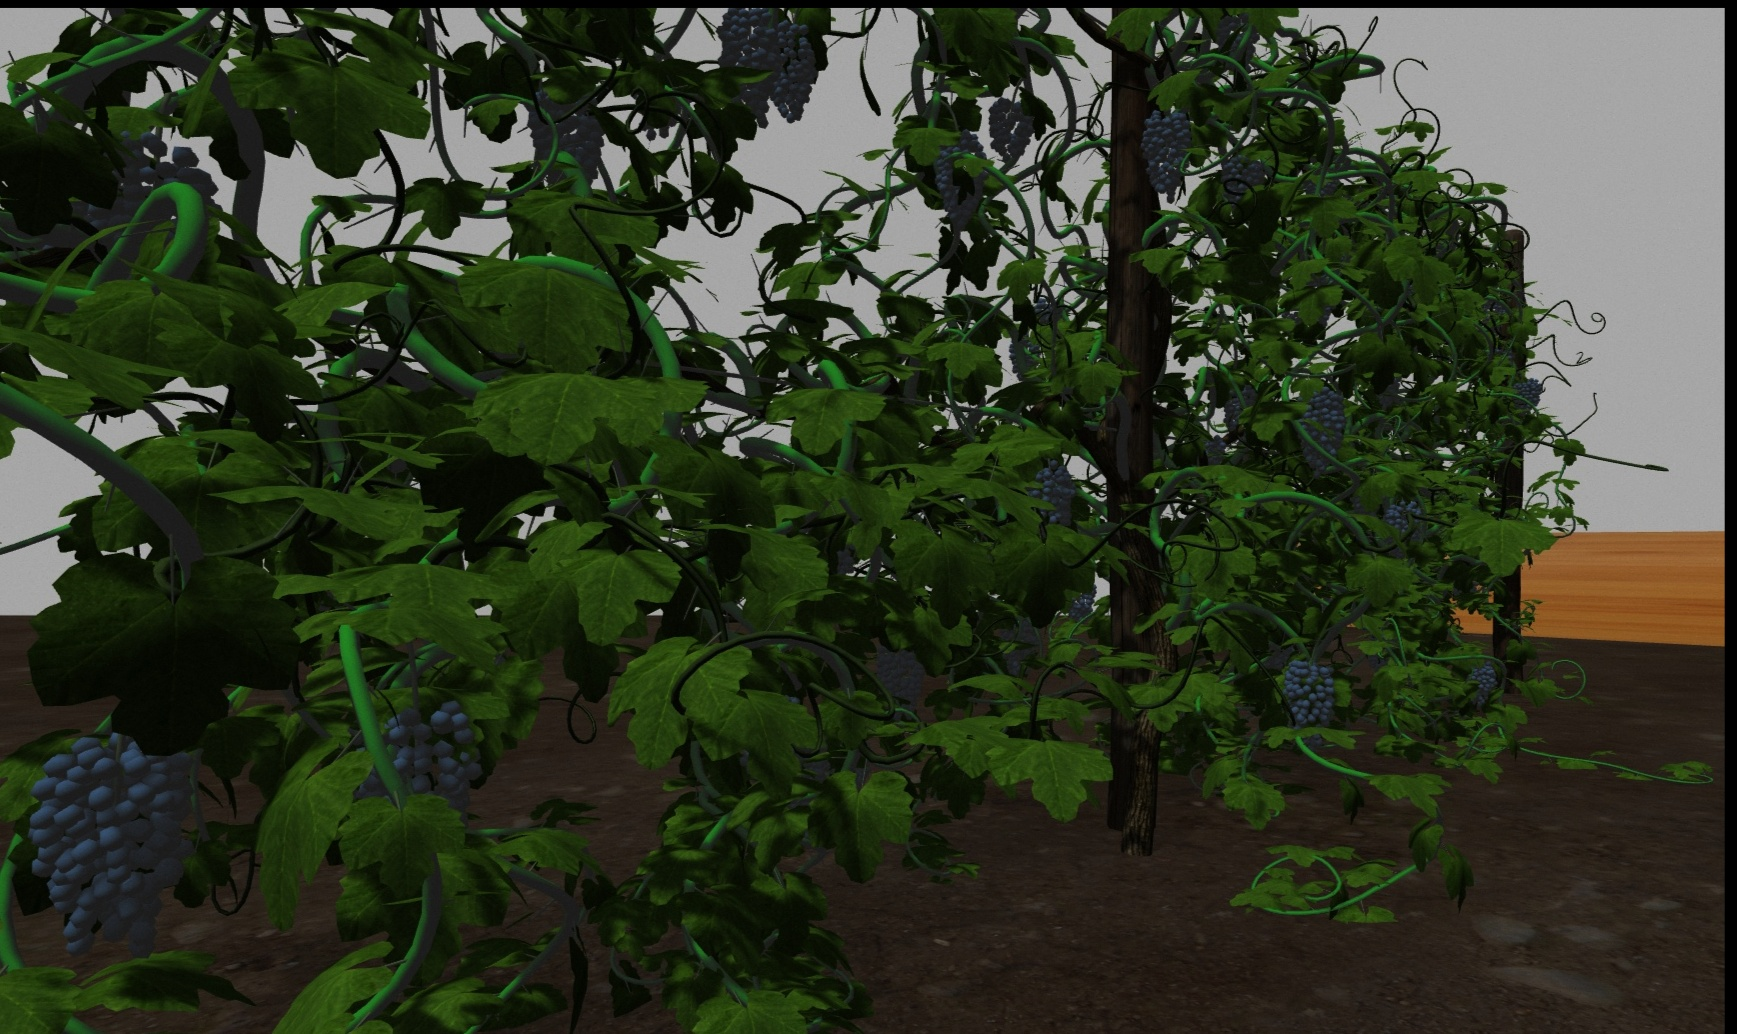grape: (25, 732, 195, 963), (382, 699, 483, 817), (526, 87, 604, 190), (719, 7, 776, 126), (766, 20, 817, 121), (933, 133, 986, 225), (1141, 107, 1190, 201), (1298, 385, 1346, 478), (1277, 657, 1336, 727), (870, 647, 927, 711), (1028, 457, 1077, 527), (996, 618, 1038, 675), (1221, 153, 1264, 203), (1382, 499, 1422, 542), (1462, 663, 1499, 707), (1510, 377, 1544, 409)
